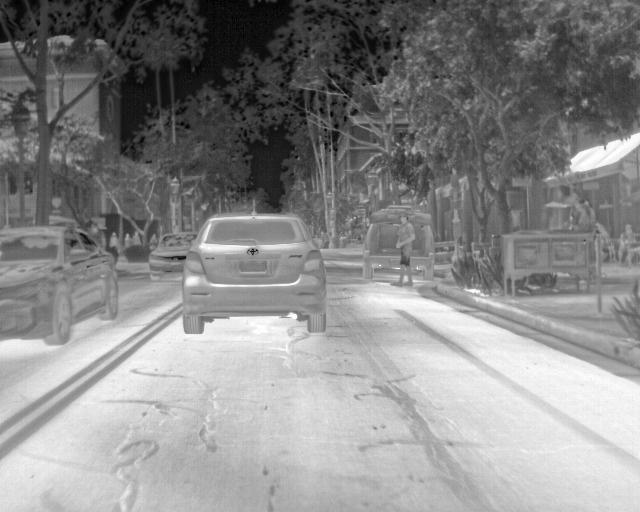bicycle: (180, 209, 328, 334), (0, 224, 120, 342), (146, 228, 196, 278), (360, 203, 387, 281), (417, 207, 435, 282)
empty: (387, 212, 415, 286), (615, 221, 637, 264), (130, 230, 142, 245), (108, 231, 119, 247), (123, 231, 131, 247)
